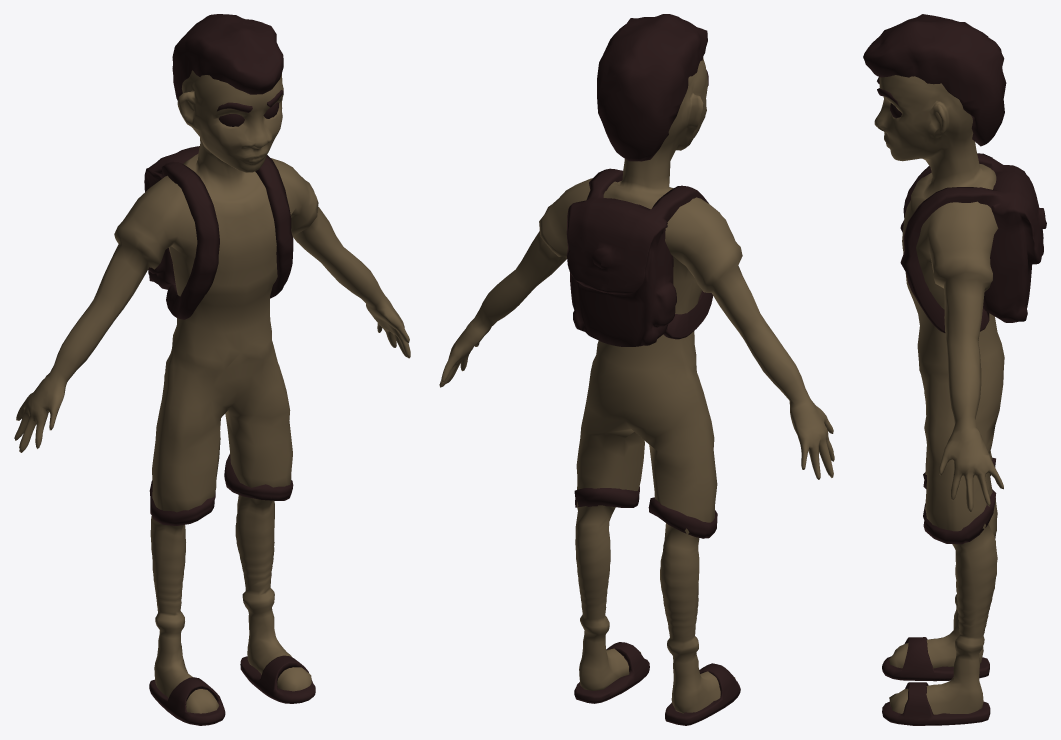
Rendered from male_uvd_fix.fbx.
The picture shows the model from 3 angles, left to right: view 1: azimuth 30°, elevation 25°; view 2: azimuth 150°, elevation 25°; view 3: azimuth 270°, elevation 25°; orthographic projection.
Visible parts, largest first — view 1: Male_body_low, Male_backpack_low, Male_hair_low, Male_badslipper_low, Male_trim_low; view 2: Male_body_low, Male_backpack_low, Male_hair_low, Male_badslipper_low, Male_trim_low; view 3: Male_body_low, Male_backpack_low, Male_hair_low, Male_badslipper_low, Male_trim_low.
Part boxes in pixels (box(x1,y1,x2,y2)): Male_body_low: box(14, 70, 410, 713); Male_backpack_low: box(144, 146, 293, 319); Male_hair_low: box(172, 14, 283, 100); Male_badslipper_low: box(149, 655, 315, 725); Male_trim_low: box(149, 454, 293, 525); Male_body_low: box(439, 58, 834, 713); Male_backpack_low: box(566, 168, 712, 346); Male_hair_low: box(597, 14, 707, 161); Male_badslipper_low: box(574, 642, 740, 725); Male_trim_low: box(574, 486, 717, 538); Male_body_low: box(874, 75, 1004, 714); Male_backpack_low: box(900, 153, 1046, 332); Male_hair_low: box(863, 14, 1006, 146); Male_badslipper_low: box(882, 637, 990, 725); Male_trim_low: box(923, 457, 996, 544).
Size of the model in its own units: 8.65 by 14.28 by 3.54.
